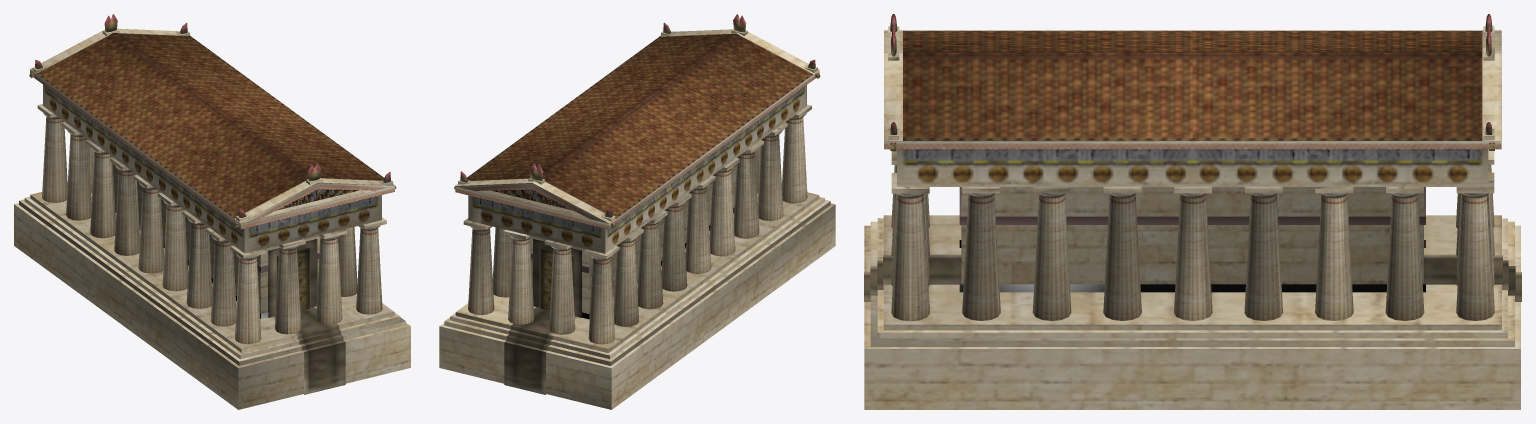
The model's file is spart_temple.glb.
3 views of the same model, side by side, from view 1: azimuth 30°, elevation 25°; view 2: azimuth 150°, elevation 25°; view 3: azimuth 270°, elevation 25° (orthographic). The views are drawn at different scales.
Visible parts, largest first — view 1: spart_temple_part0; view 2: spart_temple_part0; view 3: spart_temple_part0.
Part boxes in pixels (x1,y1,x2,y2): spart_temple_part0: (14,14,410,409); spart_temple_part0: (439,14,835,409); spart_temple_part0: (864,14,1521,409).
Bounding box in the file's own units: 2.22 × 2.69 × 5.
Materials: 1 (1 with a texture image).
